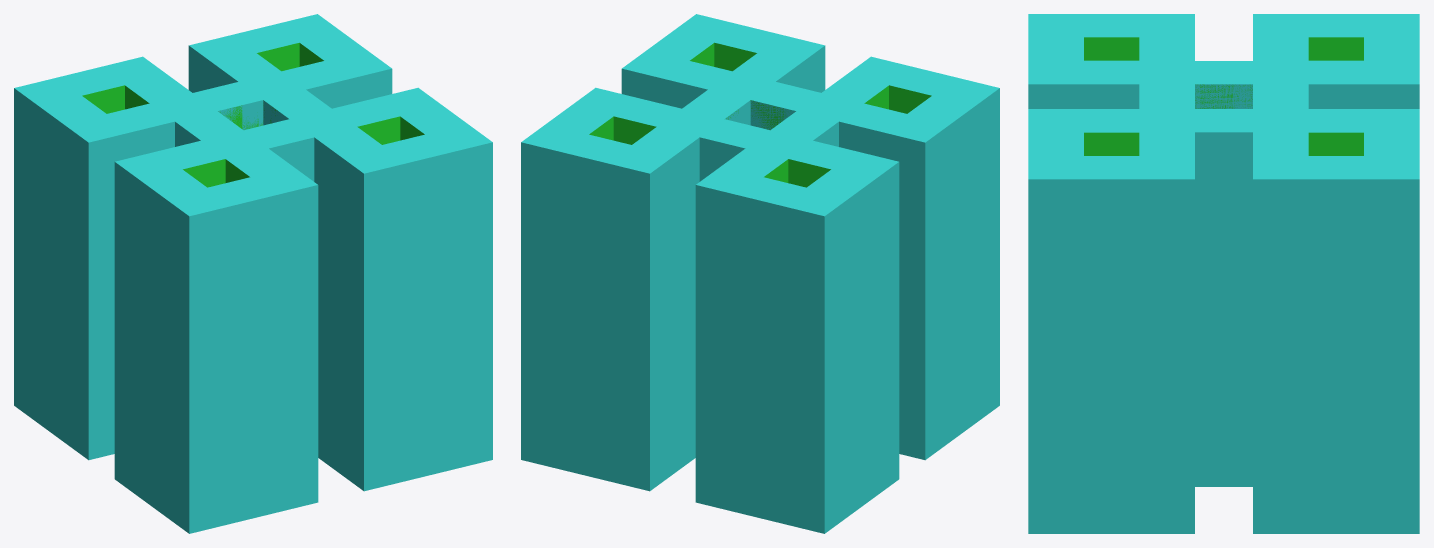
The picture shows the model from 3 angles, left to right: view 1: azimuth 30°, elevation 25°; view 2: azimuth 150°, elevation 25°; view 3: azimuth 270°, elevation 25°; orthographic projection. The views are drawn at different scales.
Visible parts, largest first — view 1: Cube; view 2: Cube; view 3: Cube.
Part boxes in pixels (x1,y1,x2,y2): Cube: (14, 14, 492, 533); Cube: (521, 14, 999, 533); Cube: (1028, 14, 1419, 533).
Size of the model in its own units: 200 by 200 by 200.
